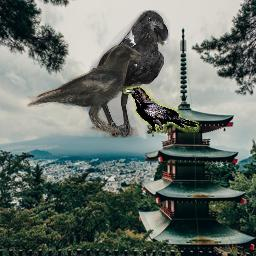Crow: (82, 10, 170, 138), (27, 44, 141, 133), (123, 86, 199, 133)
